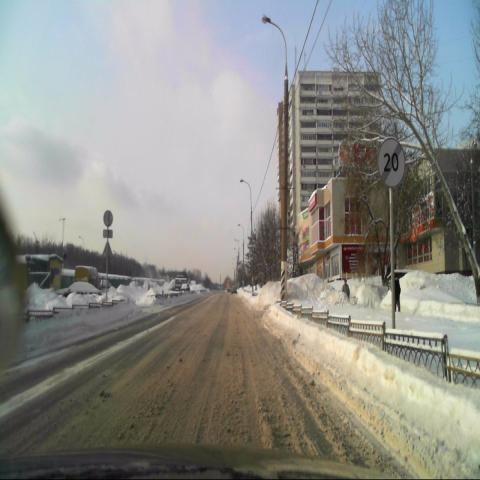3_25: (376, 136, 406, 189)
